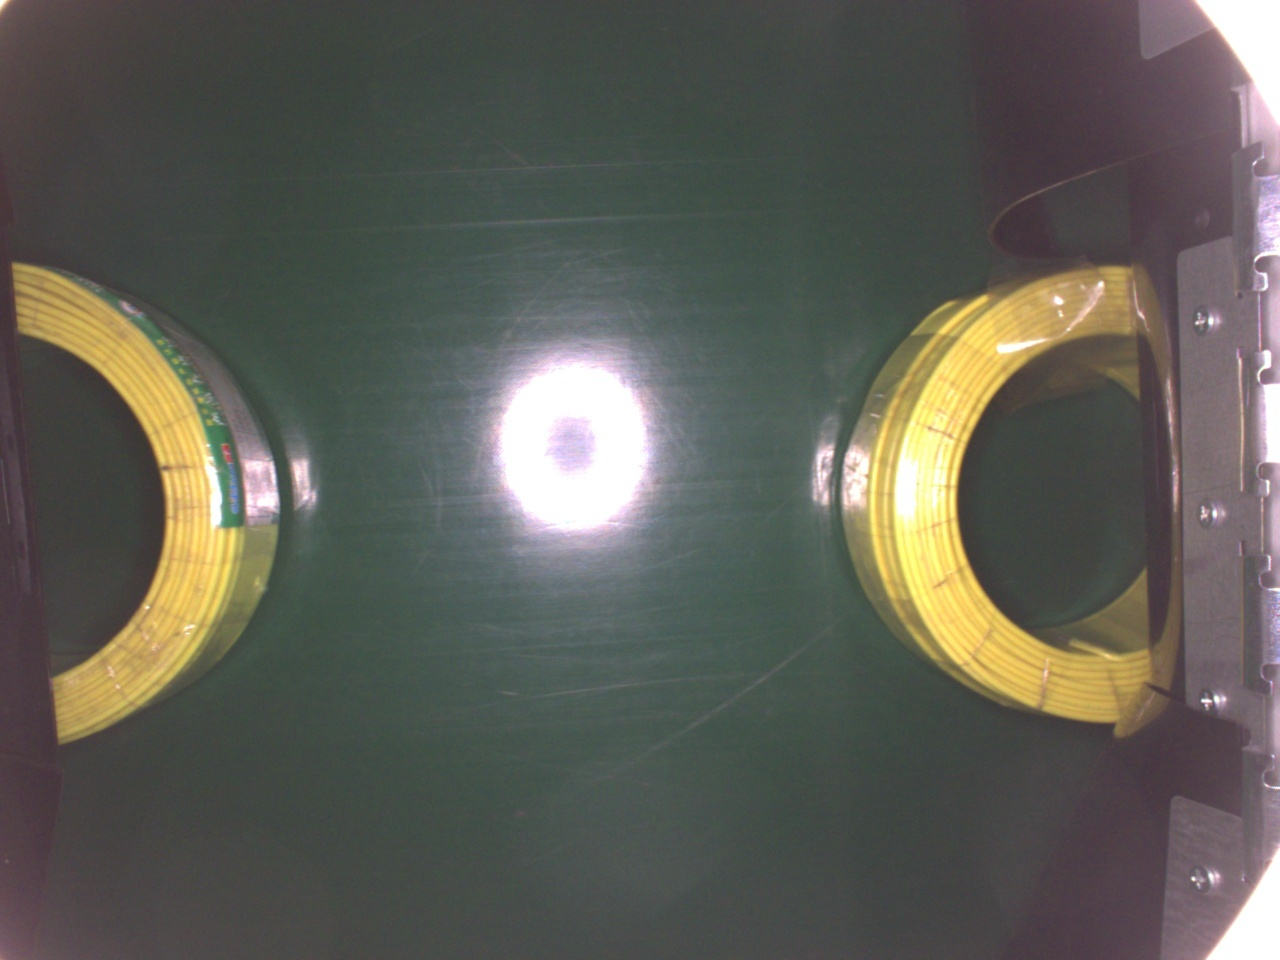yellow: (837, 255, 1157, 738), (13, 259, 293, 742)
